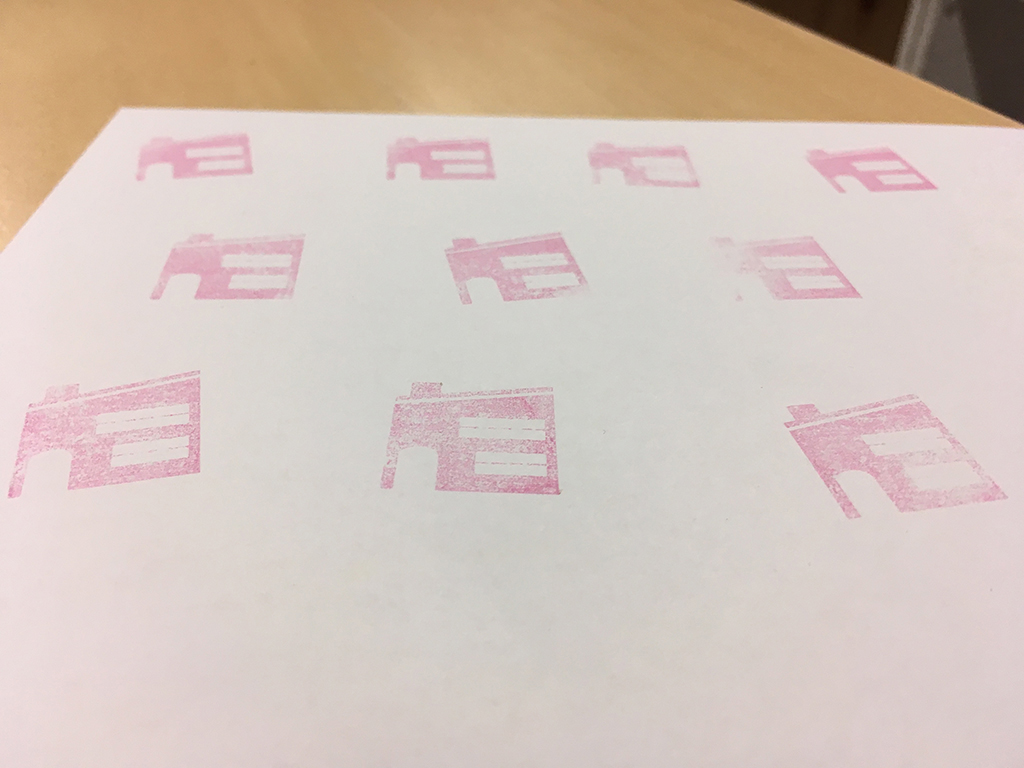house: (771, 382, 1017, 529), (7, 361, 222, 503), (377, 375, 565, 502), (692, 219, 873, 316), (436, 225, 600, 310), (147, 222, 305, 307), (800, 135, 948, 205), (364, 127, 506, 197), (124, 127, 263, 191), (584, 132, 708, 196)
